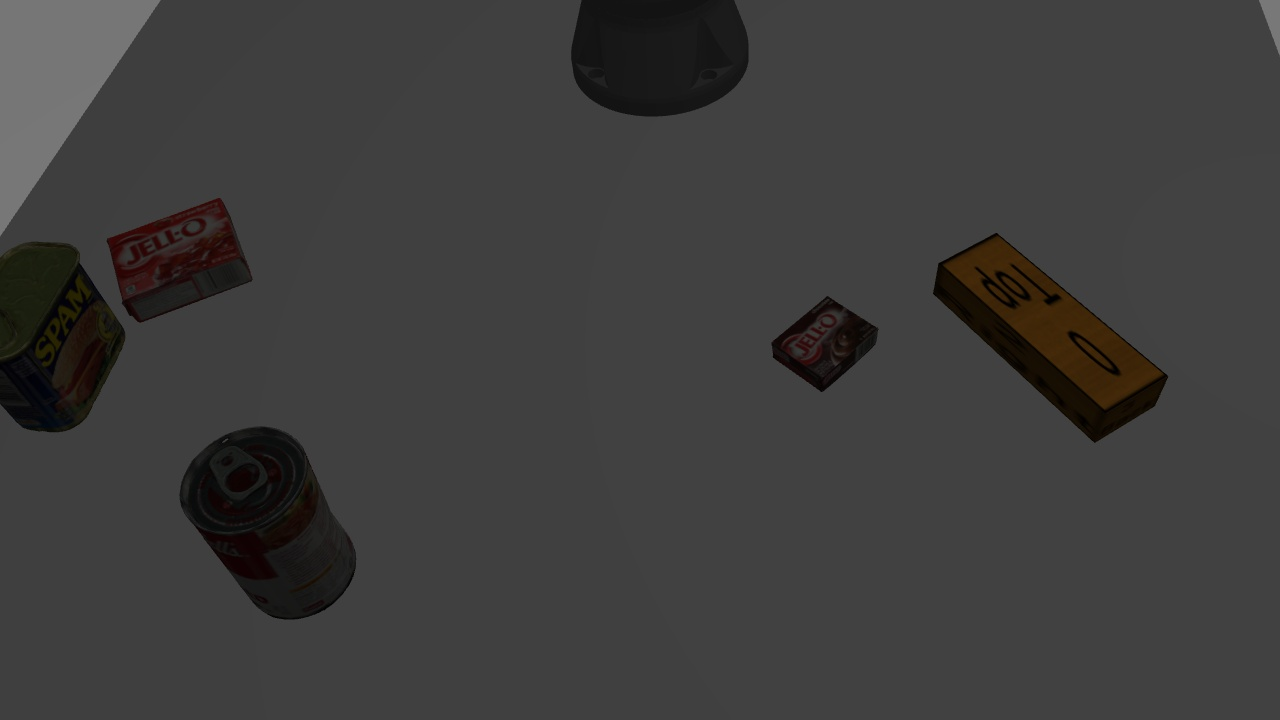gelatin_box: (112, 196, 253, 310)
jenga: (927, 226, 1176, 442)
potted_meat_can: (4, 215, 126, 435)
pudding_box: (766, 295, 882, 393)
tomato_soup_can: (171, 417, 358, 631)
